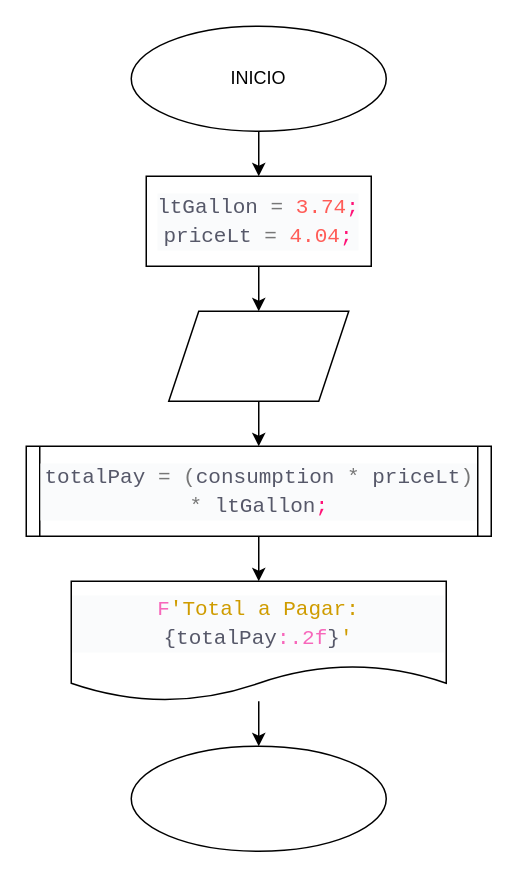
Some shapes in this 518 by 878 pixel diagram are drawn without their labels. Here are the shapes that lost their labels. From the top down, the box of each, then its label:
(167, 310, 349, 401): consumption
(130, 745, 386, 851): FINAL
